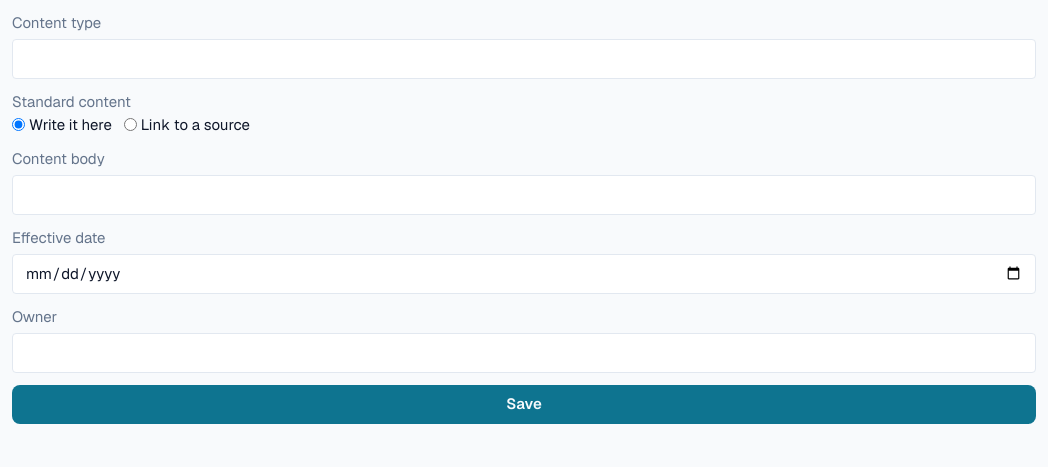
Test case: StandardForm › maps a 422 violation onto its field
The width and height of the screenshot is (1048, 467).
Type "acme.tone" into the field labelled "Content type".
click(524, 59); type("acme.tone")  # box [12, 38, 1036, 79]
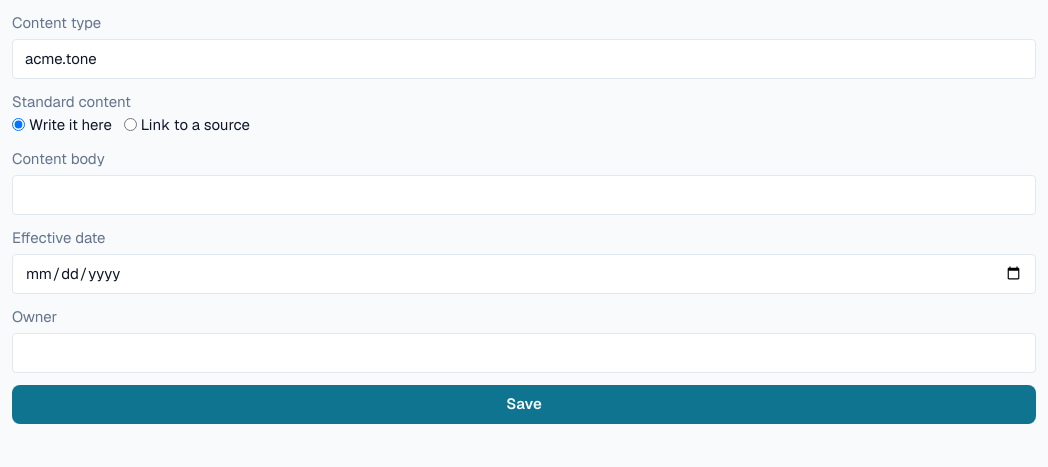
Type "Be direct." into the field labelled "Content body".
click(524, 195); type("Be direct.")  # box [12, 174, 1036, 215]
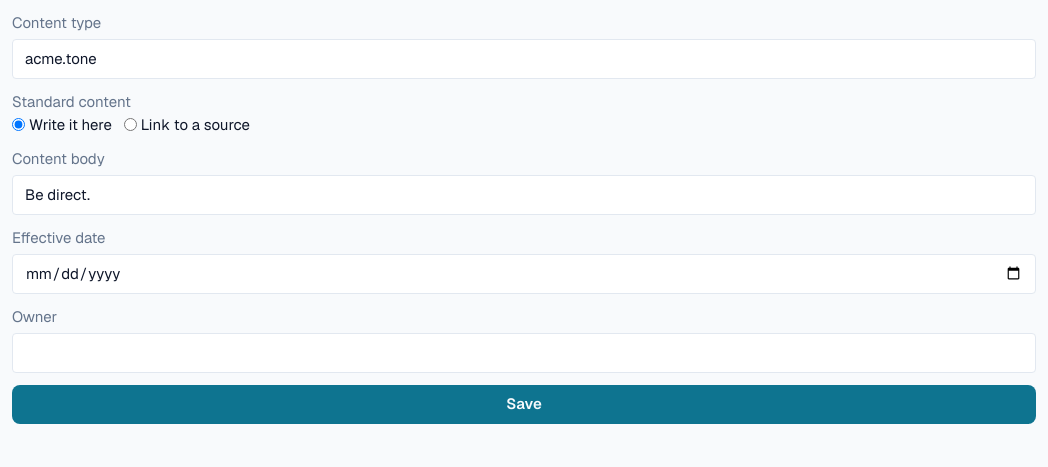
Type "2026-01-01" into the date field labelled "Effective date".
click(524, 274); type("2026-01-01")  # box [12, 254, 1036, 294]
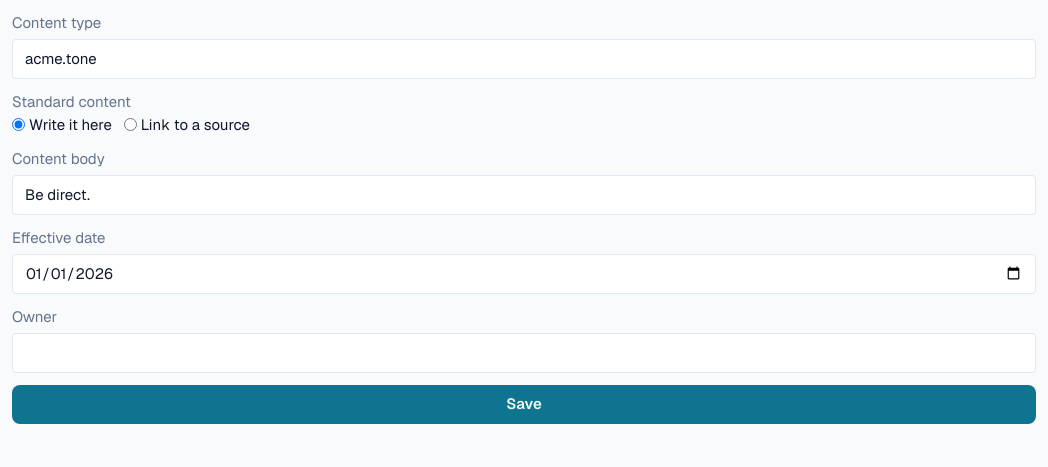
Type "x" into the field labelled "Owner".
click(524, 353); type("x")  # box [12, 332, 1036, 373]
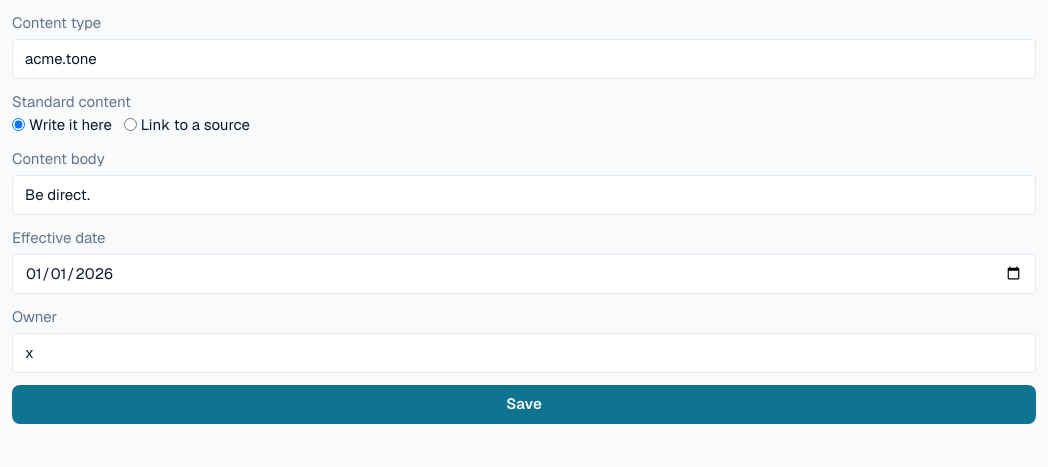
Click the button "Save".
click(524, 404)  # box [12, 385, 1036, 424]
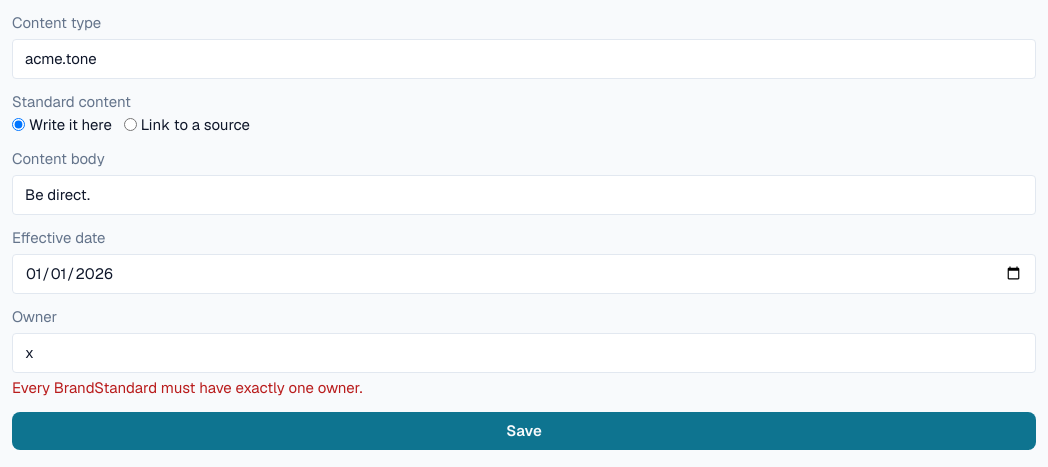
Expected: the text "Every BrandStandard must have exactly one owner." is shown, [12, 378, 362, 397]
